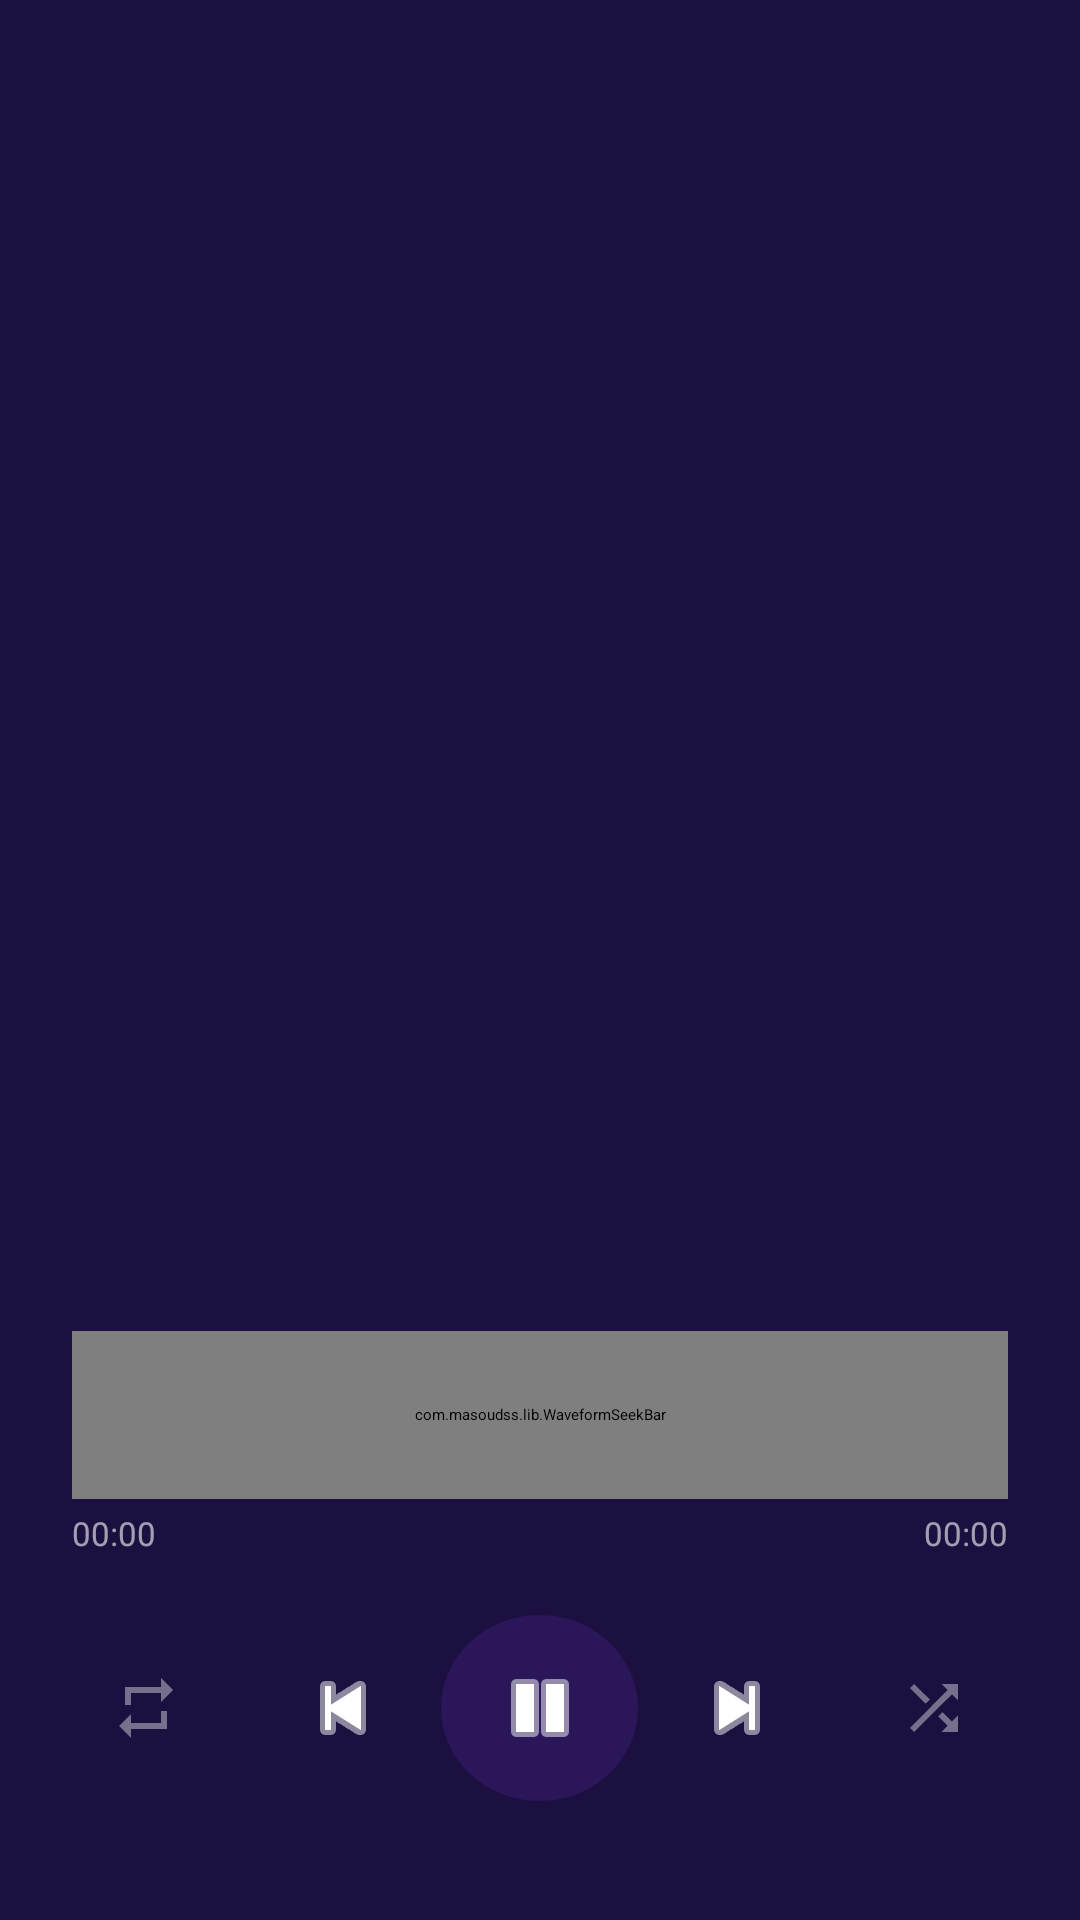

Icon click points for this 1080 × 1920 phone screenshot, format (x=x, y=y):
Next: (x=737, y=1708)
Play Pause: (x=539, y=1708)
Previous: (x=343, y=1708)
Repeat: (x=146, y=1708)
Shuffle: (x=934, y=1708)
